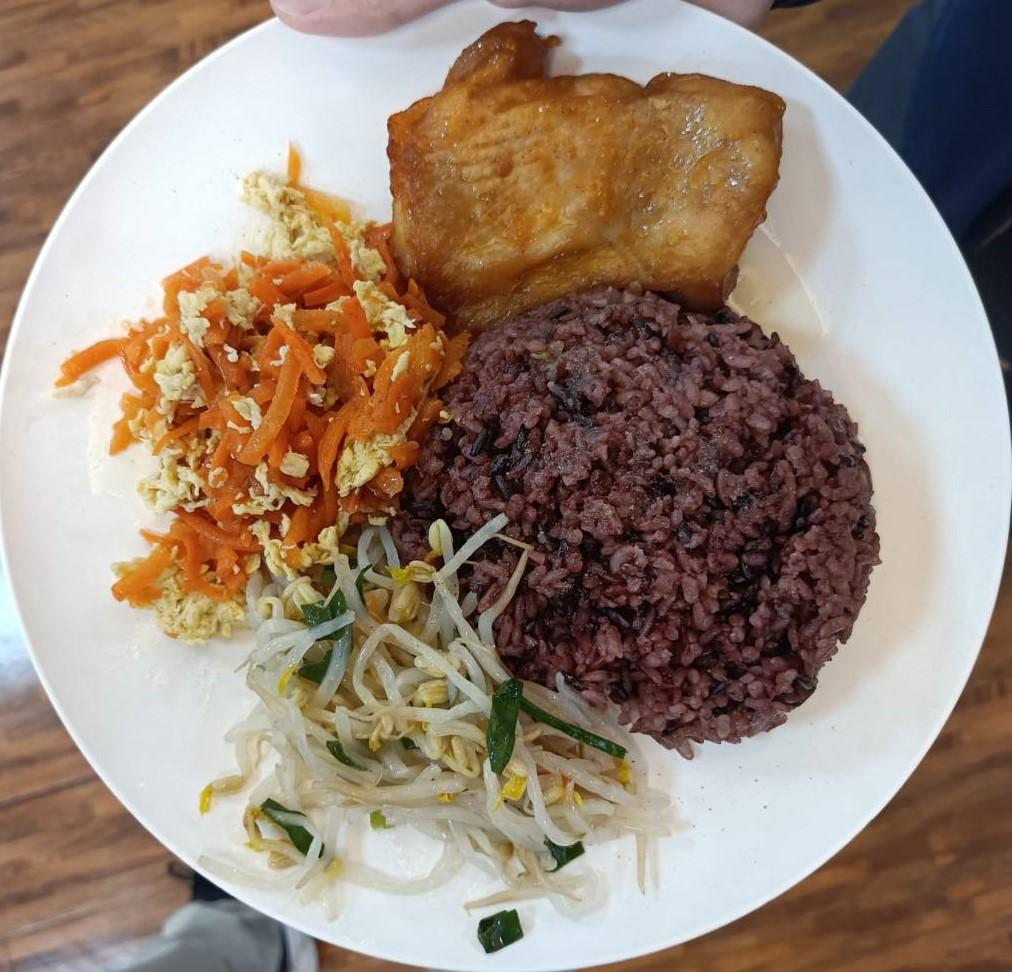big fried chicken leg: (0, 0, 1012, 972)
braised fish: (432, 282, 875, 744)
braised fish fillet: (200, 531, 673, 939), (54, 176, 446, 646)
braised pork: (374, 24, 789, 317)
